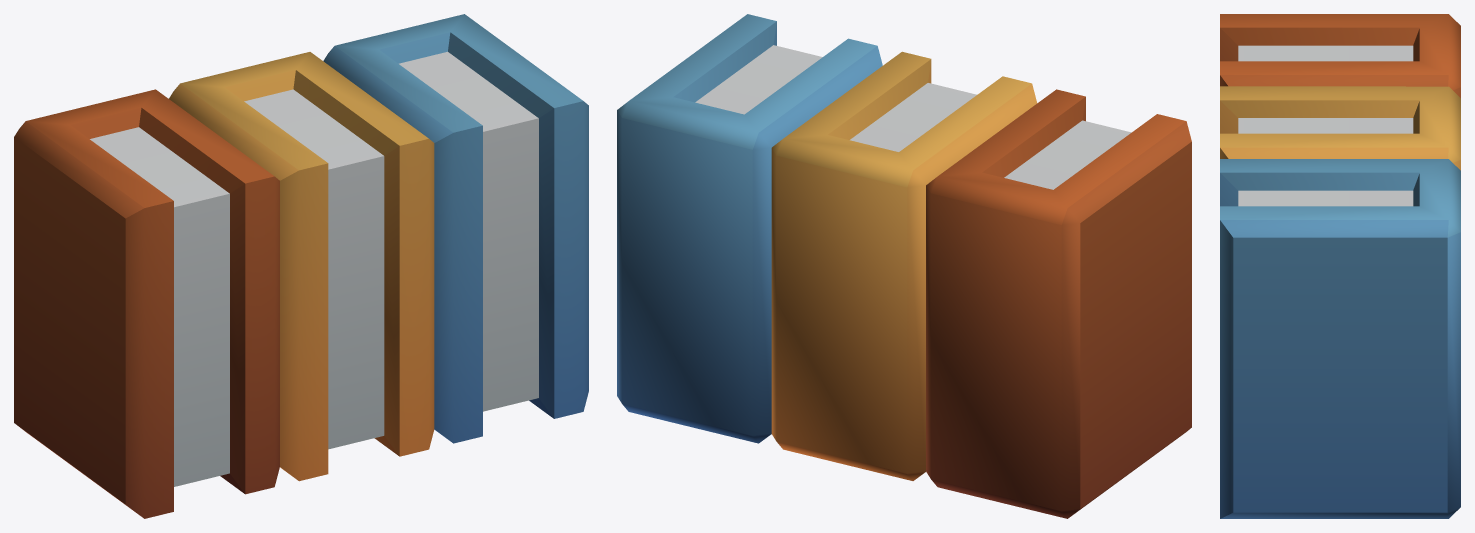
The model's file is K_book_set.glb.
3 renders of one model, left to right at view 1: azimuth 30°, elevation 25°; view 2: azimuth 150°, elevation 25°; view 3: azimuth 270°, elevation 25°, orthographic. The views are drawn at different scales.
Visible parts, largest first — view 1: book_set; view 2: book_set; view 3: book_set.
Part boxes in pixels (box(x1,y1,x2,y2)): book_set: box(14, 14, 588, 518); book_set: box(617, 14, 1191, 518); book_set: box(1220, 14, 1460, 518).
Bounding box in the file's own units: 0.78 × 0.5 × 0.365.
